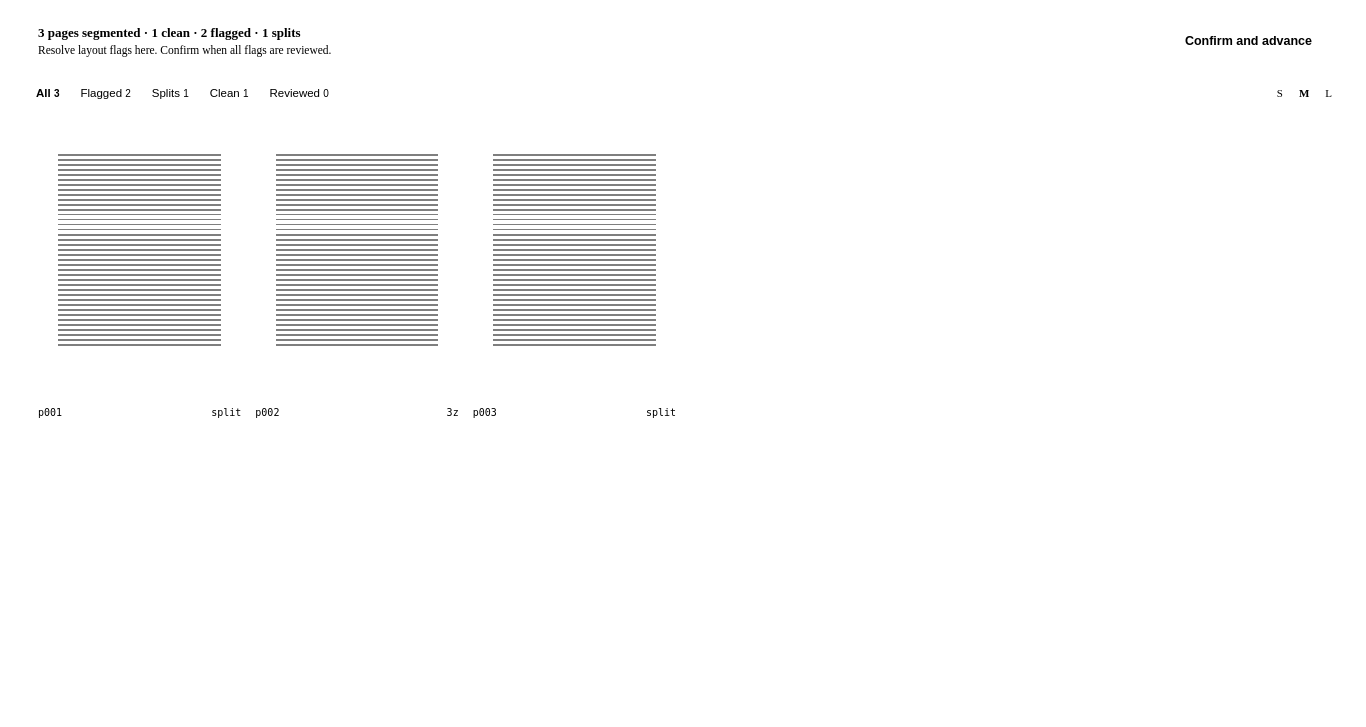
TextZonesTool — zone-editor-redetect button › zone-editor-redetect is present when zone editor is open
Expected: the button with test id "zone-page-card" showing "p001 split" is shown, [34,128,245,422]
Click the button with test id "zone-page-card" showing "p002 3z": (357, 275) [251,128,463,422]
(page scrolled)
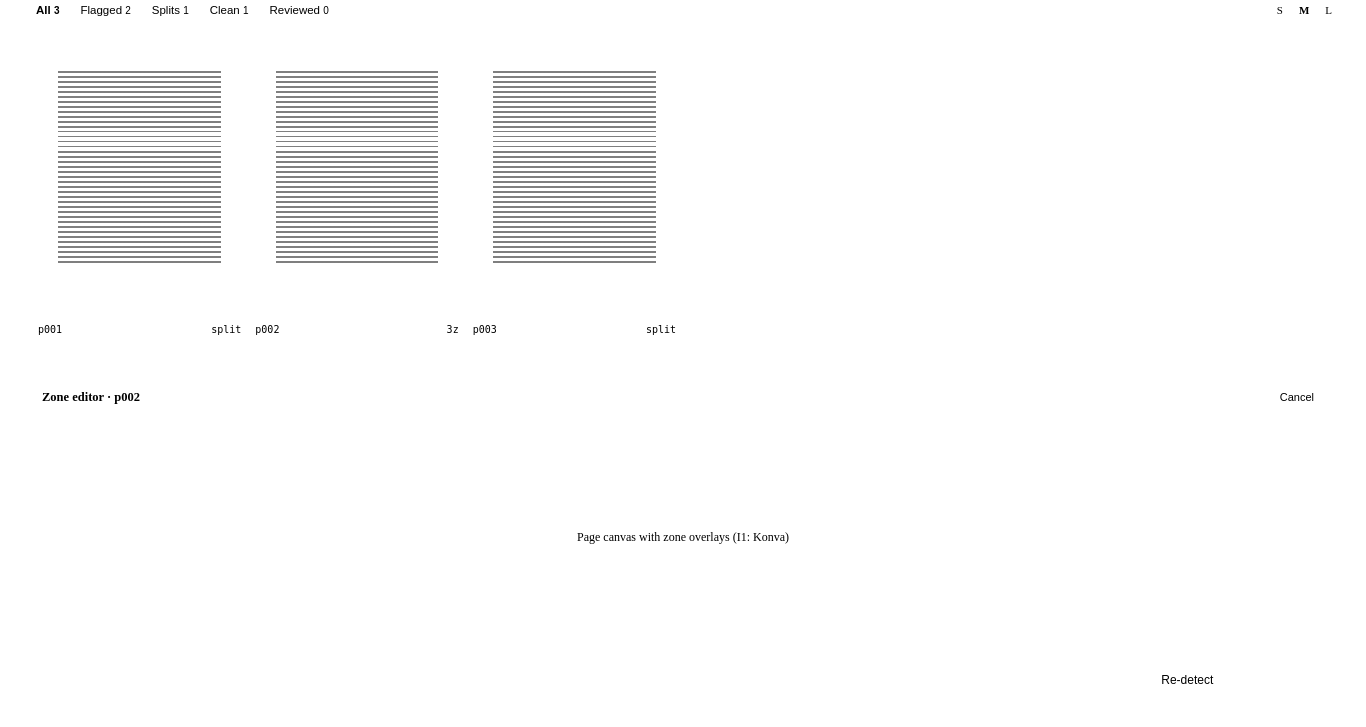
Expected: the button with test id "zone-editor-redetect" is shown, [1149,669,1225,691]
